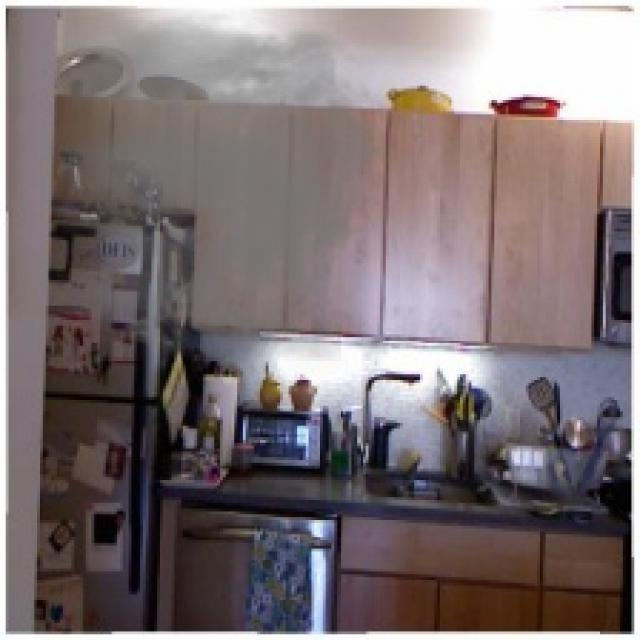Smoke: (40, 8, 400, 360)
